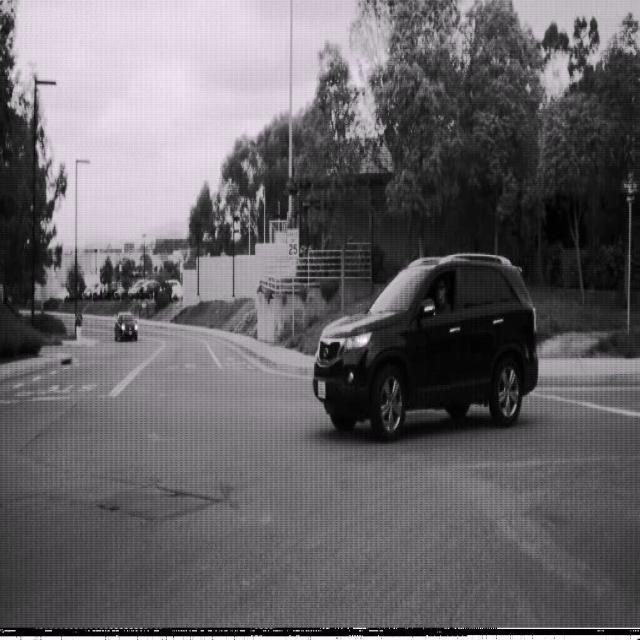speedLimit25: (286, 227, 300, 260)
